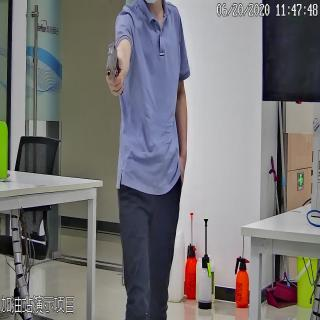gun: (104, 41, 126, 96)
